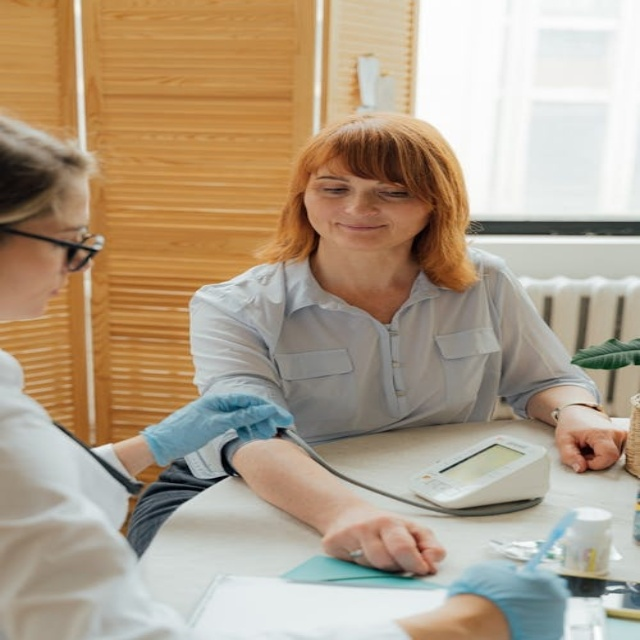Gafas: (1, 222, 106, 272)
Guantes: (139, 391, 297, 468), (444, 559, 569, 640)
Sin_gafas: (307, 173, 407, 201)
Sin_guantes: (320, 512, 444, 576), (550, 401, 626, 470)
Sin_mascara: (6, 276, 73, 317), (324, 213, 397, 246)
